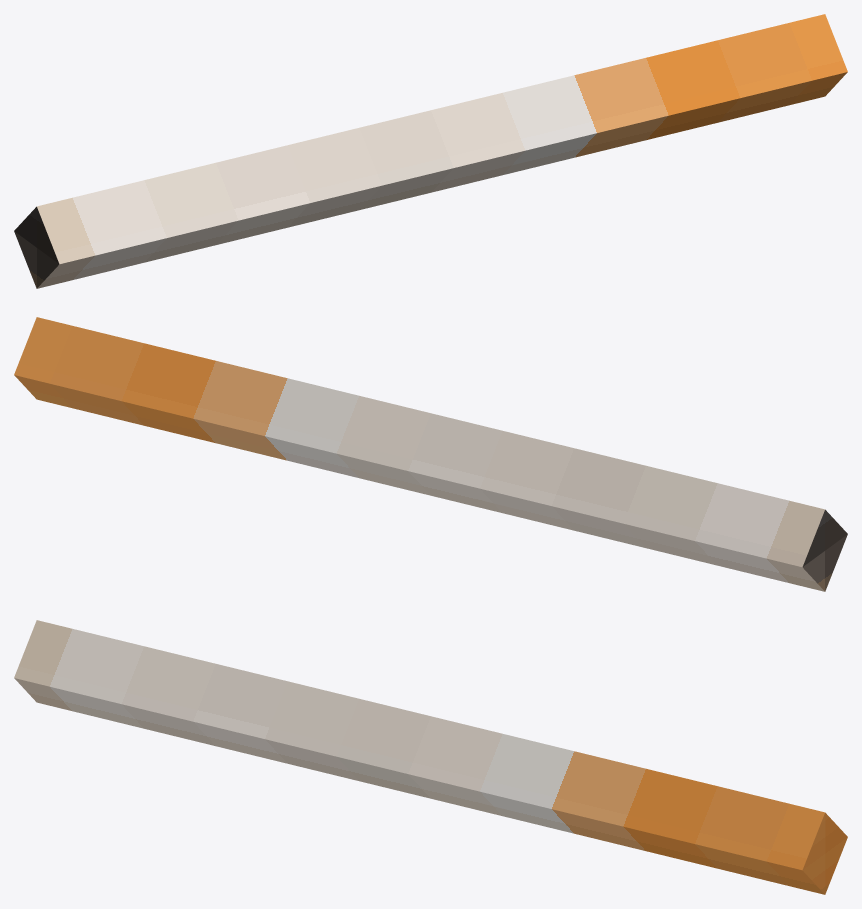
The model's file is cigarette.glb.
3 views of the same model, one above another, from view 1: azimuth 30°, elevation 25°; view 2: azimuth 150°, elevation 25°; view 3: azimuth 330°, elevation 25° (orthographic).
Parts seen in each view (by area): view 1: cigarette; view 2: cigarette; view 3: cigarette.
Boxes of the visible parts, <box> form: cigarette: <box>14,14,847,288</box>; cigarette: <box>14,317,847,591</box>; cigarette: <box>14,620,847,894</box>.
Size of the model in its own units: 0.08 by 0.008 by 0.008.
Materials: 1 (1 with a texture image).
